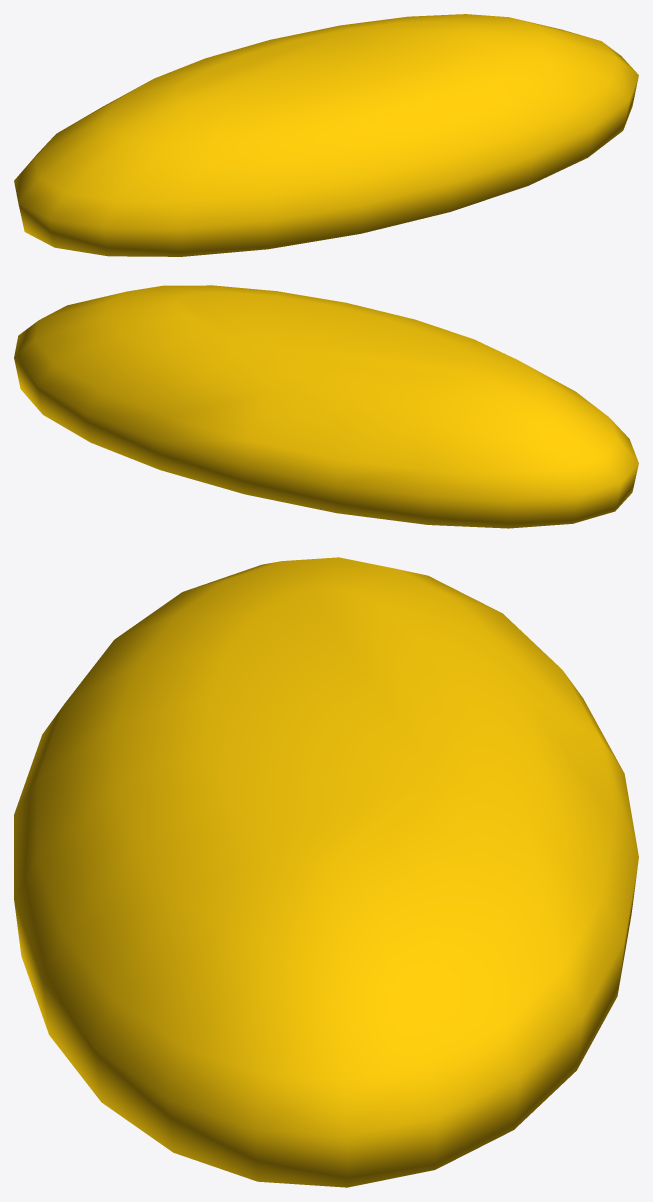
Rendered from Omelet.fbx.
The picture shows the model from 3 angles, top to bottom: view 1: azimuth 30°, elevation 25°; view 2: azimuth 150°, elevation 25°; view 3: azimuth 270°, elevation 25°; orthographic projection. The views are drawn at different scales.
Visible parts, largest first — view 1: 球.001; view 2: 球.001; view 3: 球.001.
Part boxes in pixels (x1,y1,x2,y2): 球.001: (14, 14, 638, 256); 球.001: (14, 285, 638, 528); 球.001: (14, 557, 638, 1187).
Size of the model in its own units: 158 by 28.55 by 74.67.
